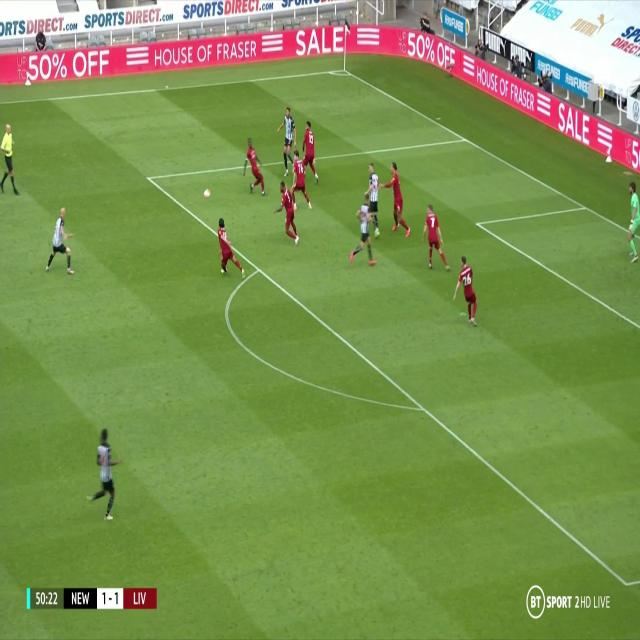ball: (204, 186, 212, 198)
player: (87, 426, 121, 522), (44, 207, 74, 278), (422, 205, 450, 276), (385, 162, 411, 238), (214, 218, 244, 282), (350, 198, 377, 268), (454, 254, 479, 326), (274, 180, 299, 244), (276, 105, 298, 174), (244, 137, 268, 200), (1, 120, 19, 200), (290, 152, 313, 211), (366, 165, 384, 237), (625, 179, 639, 261), (302, 121, 320, 184)
